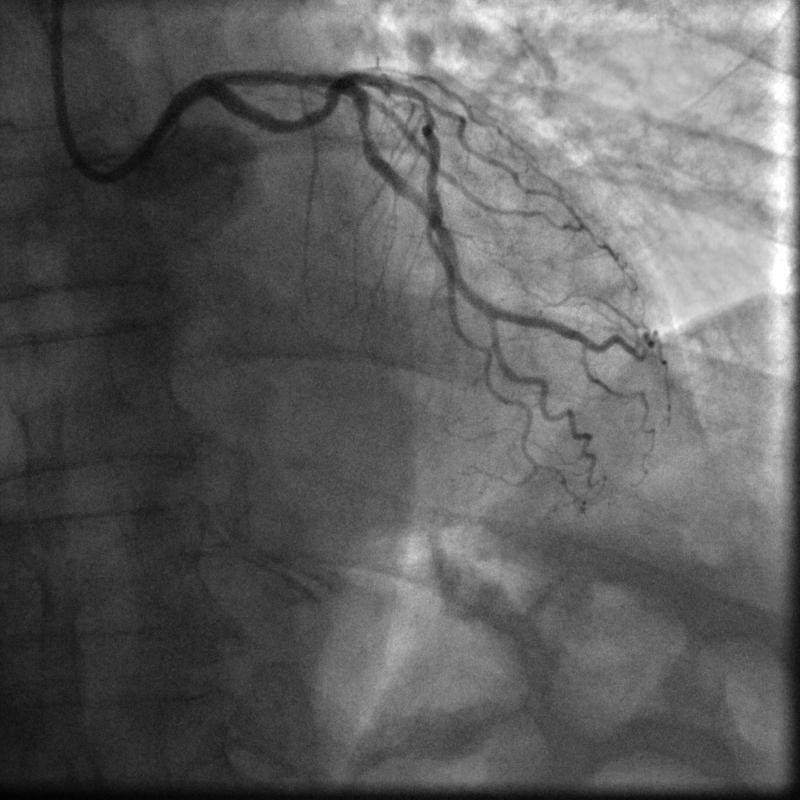Stenosis: (358, 121, 371, 138)
